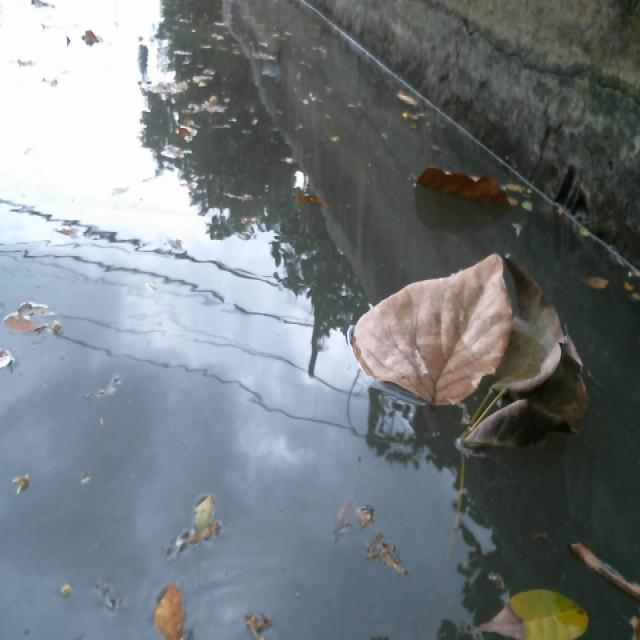Big-leaf: (458, 263, 595, 466), (358, 256, 508, 409), (398, 162, 541, 219)
Small-leaf: (469, 590, 594, 640), (163, 484, 226, 550), (146, 592, 194, 640), (285, 173, 338, 215), (399, 79, 435, 120)
